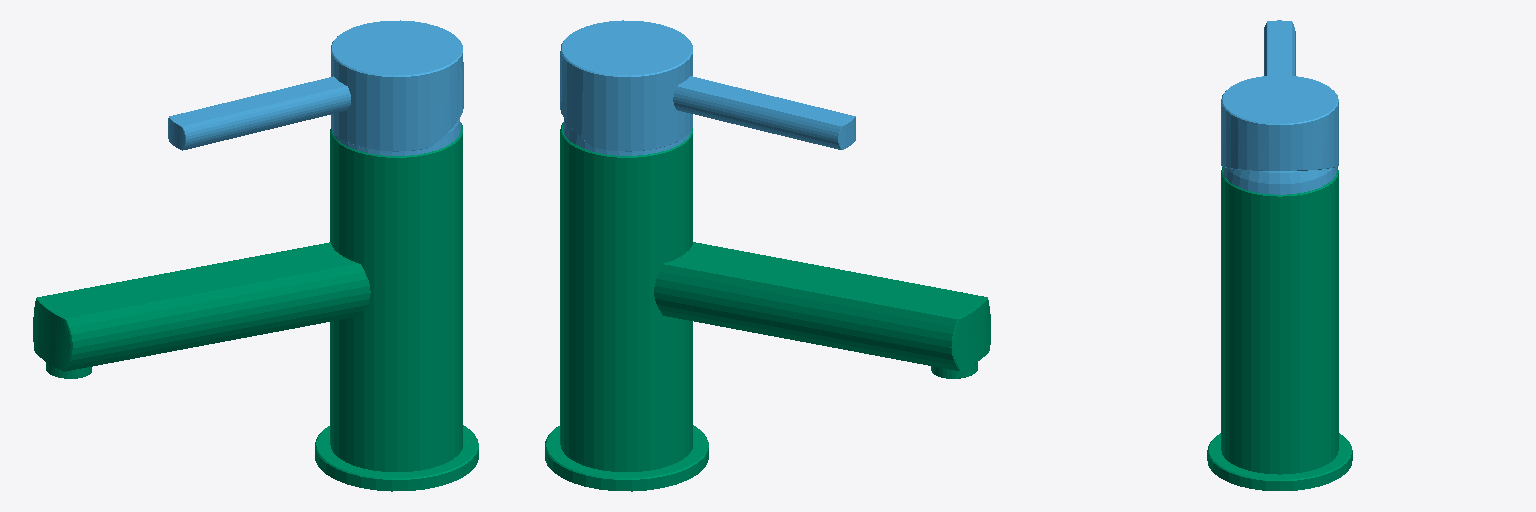
robot.urdf — partnet_9797db191dd9813b14b35a7d7cea7130:
<?xml version="1.0" ?>
<robot name="partnet_9797db191dd9813b14b35a7d7cea7130">
	<link name="base"/>
	<link name="link_0">
		<visual name="switch-2">
			<origin xyz="-0.005887000000000003 0 0.17959585177171686"/>
			<geometry>
				<mesh filename="textured_objs/original-6.obj"/>
			</geometry>
		</visual>
		<visual name="switch-2">
			<origin xyz="-0.005887000000000003 0 0.17959585177171686"/>
			<geometry>
				<mesh filename="textured_objs/original-4.obj"/>
			</geometry>
		</visual>
		<visual name="switch-2">
			<origin xyz="-0.005887000000000003 0 0.17959585177171686"/>
			<geometry>
				<mesh filename="textured_objs/original-8.obj"/>
			</geometry>
		</visual>
		<collision>
			<origin xyz="-0.005887000000000003 0 0.17959585177171686"/>
			<geometry>
				<mesh filename="textured_objs/original-6.obj"/>
			</geometry>
		</collision>
		<collision>
			<origin xyz="-0.005887000000000003 0 0.17959585177171686"/>
			<geometry>
				<mesh filename="textured_objs/original-4.obj"/>
			</geometry>
		</collision>
		<collision>
			<origin xyz="-0.005887000000000003 0 0.17959585177171686"/>
			<geometry>
				<mesh filename="textured_objs/original-8.obj"/>
			</geometry>
		</collision>
	</link>
	<joint name="joint_0" type="revolute">
		<origin xyz="0.005887000000000003 0 -0.17959585177171686"/>
		<axis xyz="0 -1 0"/>
		<child link="link_0"/>
		<parent link="link_1"/>
		<limit lower="-1.5707963267948966" upper="1.5707963267948966"/>
	</joint>
	<link name="link_1">
		<visual name="vertical_support-7">
			<origin xyz="0 0 0"/>
			<geometry>
				<mesh filename="textured_objs/original-3.obj"/>
			</geometry>
		</visual>
		<visual name="surface_base-8">
			<origin xyz="0 0 0"/>
			<geometry>
				<mesh filename="textured_objs/original-5.obj"/>
			</geometry>
		</visual>
		<visual name="tube-5">
			<origin xyz="0 0 0"/>
			<geometry>
				<mesh filename="textured_objs/original-7.obj"/>
			</geometry>
		</visual>
		<visual name="mouth-6">
			<origin xyz="0 0 0"/>
			<geometry>
				<mesh filename="textured_objs/original-1.obj"/>
			</geometry>
		</visual>
		<collision>
			<origin xyz="0 0 0"/>
			<geometry>
				<mesh filename="textured_objs/original-3.obj"/>
			</geometry>
		</collision>
		<collision>
			<origin xyz="0 0 0"/>
			<geometry>
				<mesh filename="textured_objs/original-5.obj"/>
			</geometry>
		</collision>
		<collision>
			<origin xyz="0 0 0"/>
			<geometry>
				<mesh filename="textured_objs/original-7.obj"/>
			</geometry>
		</collision>
		<collision>
			<origin xyz="0 0 0"/>
			<geometry>
				<mesh filename="textured_objs/original-1.obj"/>
			</geometry>
		</collision>
	</link>
	<joint name="joint_1" type="fixed">
		<origin rpy="1.570796326794897 0 -1.570796326794897" xyz="0 0 0"/>
		<child link="link_1"/>
		<parent link="base"/>
	</joint>
</robot>

--- Facts derived from the render (not from the file) ---
3 views of the same robot in one strip: view 1: azimuth 30°, elevation 25°; view 2: azimuth 150°, elevation 25°; view 3: azimuth 270°, elevation 25° (orthographic).
Robot: partnet_9797db191dd9813b14b35a7d7cea7130 — 3 links, 2 joints (1 revolute, 1 fixed); root link base; default pose: all joints at 0.
Links seen in each view (by area): view 1: link_1, link_0; view 2: link_1, link_0; view 3: link_1, link_0.
Boxes of the visible links, x1,y1,x2,y2 form: link_1: (33,123,478,491); link_0: (168,20,463,155); link_1: (545,123,990,491); link_0: (560,20,855,155); link_1: (1207,167,1352,490); link_0: (1221,20,1338,194).
Bounding box of the posed robot: 1.42 × 0.4786 × 1.31 m (x, y, z).
7 mesh visuals loaded from 7 distinct referenced files (7 OBJ).
